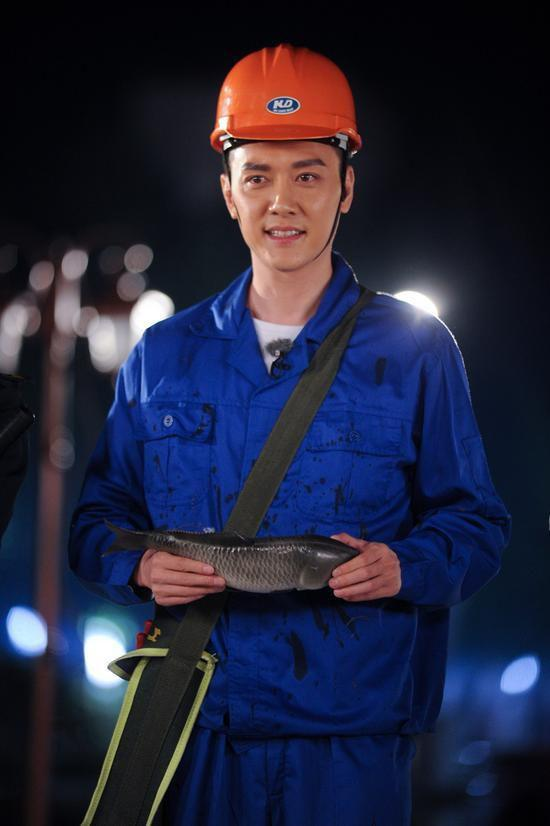helmet: (207, 44, 365, 158)
